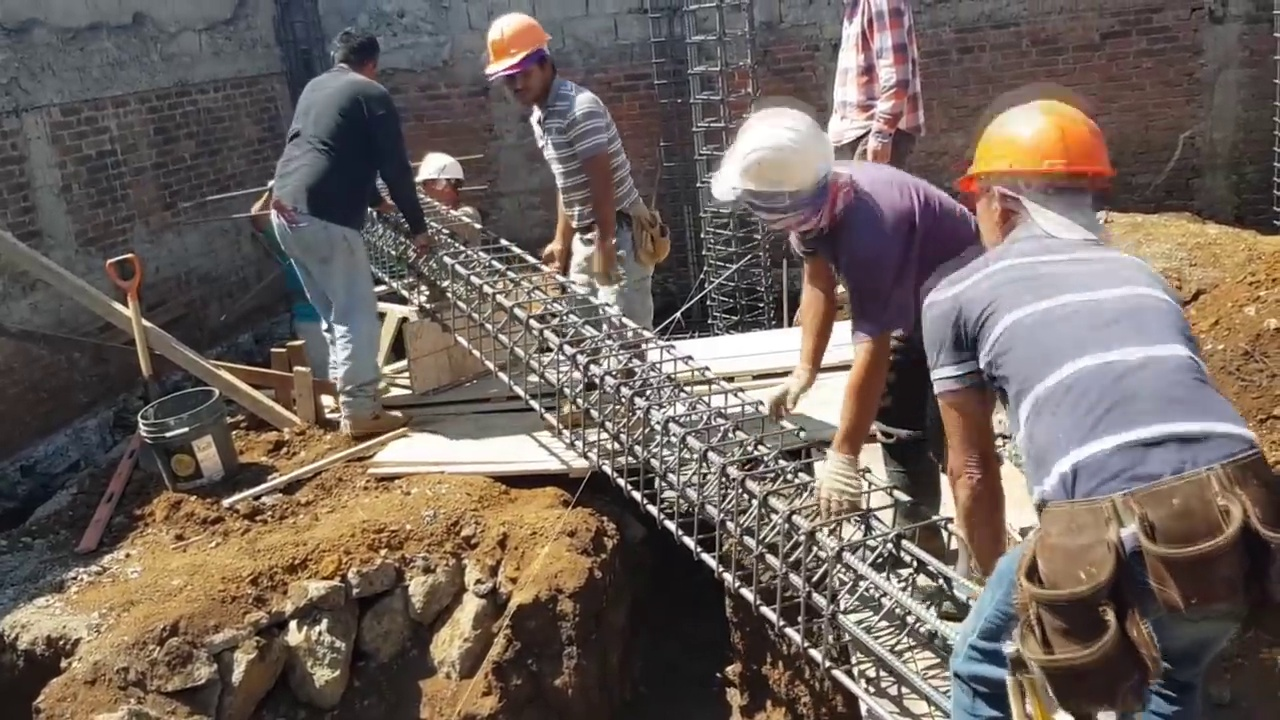helmet: (962, 94, 1121, 206), (717, 104, 836, 202), (476, 11, 546, 71), (417, 150, 464, 187)
helmet-off: (338, 30, 376, 77)
helmet-on: (962, 89, 1128, 254), (708, 102, 857, 254), (474, 20, 562, 118), (414, 140, 470, 214)
person: (920, 90, 1280, 720), (713, 101, 970, 532), (271, 23, 427, 461), (476, 21, 657, 331), (823, 2, 921, 164), (410, 142, 490, 254)
